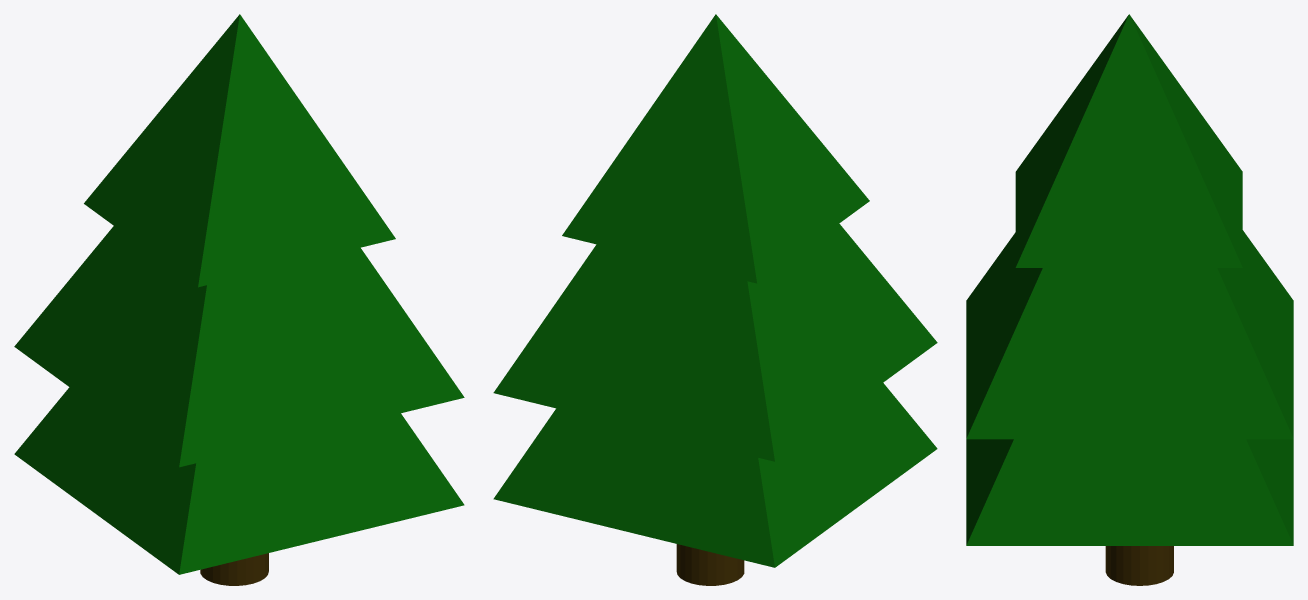
File: elka3.fbx
The picture shows the model from 3 angles, left to right: view 1: azimuth 30°, elevation 25°; view 2: azimuth 150°, elevation 25°; view 3: azimuth 270°, elevation 25°; orthographic projection.
Visible parts, largest first — view 1: Pyramid_1, Pyramid_2, Pyramid, Cylinder_2; view 2: Pyramid_1, Pyramid_2, Pyramid, Cylinder_2; view 3: Pyramid_1, Pyramid_2, Pyramid, Cylinder_2.
Part boxes in pixels (x1=…): Pyramid_1: x1=14, y1=226, x2=464, y2=467; Pyramid_2: x1=84, y1=14, x2=395, y2=287; Pyramid: x1=14, y1=387, x2=464, y2=574; Cylinder_2: x1=200, y1=553, x2=268, y2=585; Pyramid_1: x1=493, y1=223, x2=937, y2=461; Pyramid_2: x1=562, y1=14, x2=869, y2=283; Pyramid: x1=493, y1=383, x2=937, y2=567; Cylinder_2: x1=676, y1=544, x2=744, y2=585; Pyramid_1: x1=966, y1=230, x2=1293, y2=439; Pyramid_2: x1=1015, y1=14, x2=1242, y2=267; Pyramid: x1=966, y1=439, x2=1293, y2=545; Cylinder_2: x1=1105, y1=546, x2=1173, y2=585.
Size of the model in its own units: 200 by 376 by 200.
